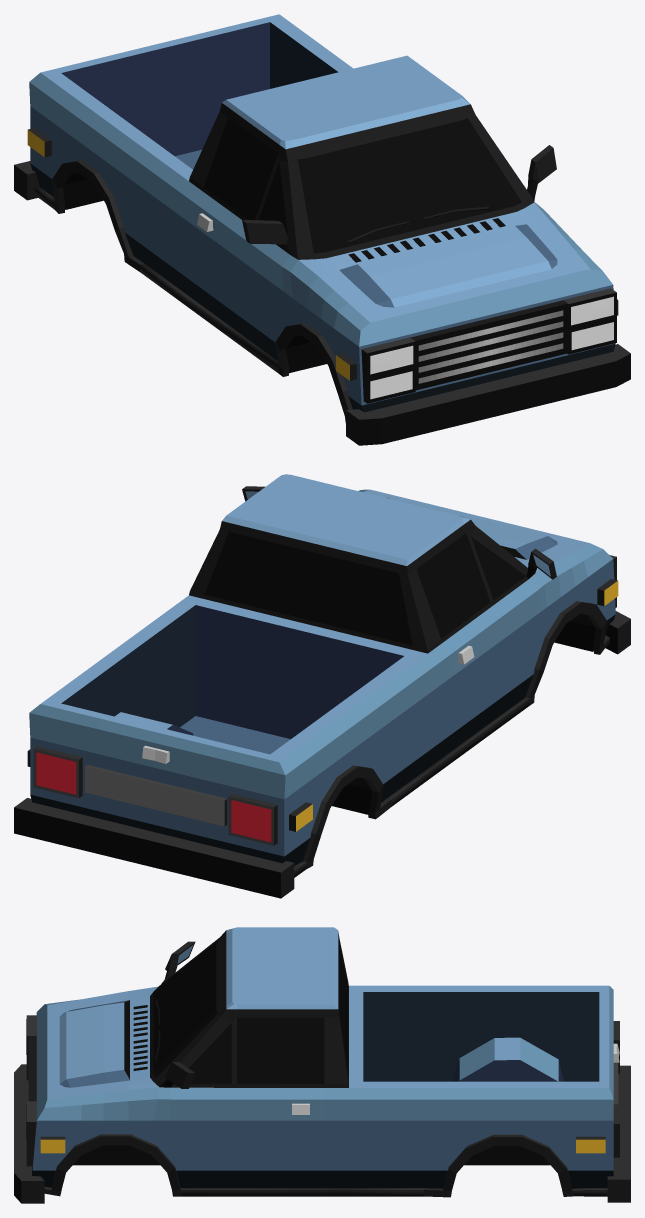
File: PickUp.005.fbx
3 views of the same model, one above another, from view 1: azimuth 30°, elevation 25°; view 2: azimuth 150°, elevation 25°; view 3: azimuth 270°, elevation 25° (orthographic). The views are drawn at different scales.
Parts seen in each view (by area): view 1: PickUp.005; view 2: PickUp.005; view 3: PickUp.005.
Part boxes in pixels (left/top/right/bottom): PickUp.005: left=14, top=14, right=630, bottom=445; PickUp.005: left=14, top=474, right=630, bottom=898; PickUp.005: left=14, top=927, right=630, bottom=1203.
Bounding box in the file's own units: 2.02 × 1.28 × 4.
